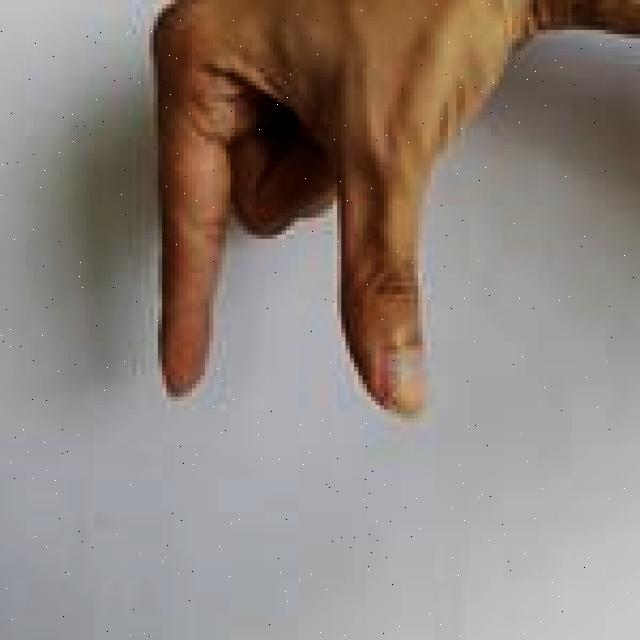Q: (128, 0, 640, 433)
